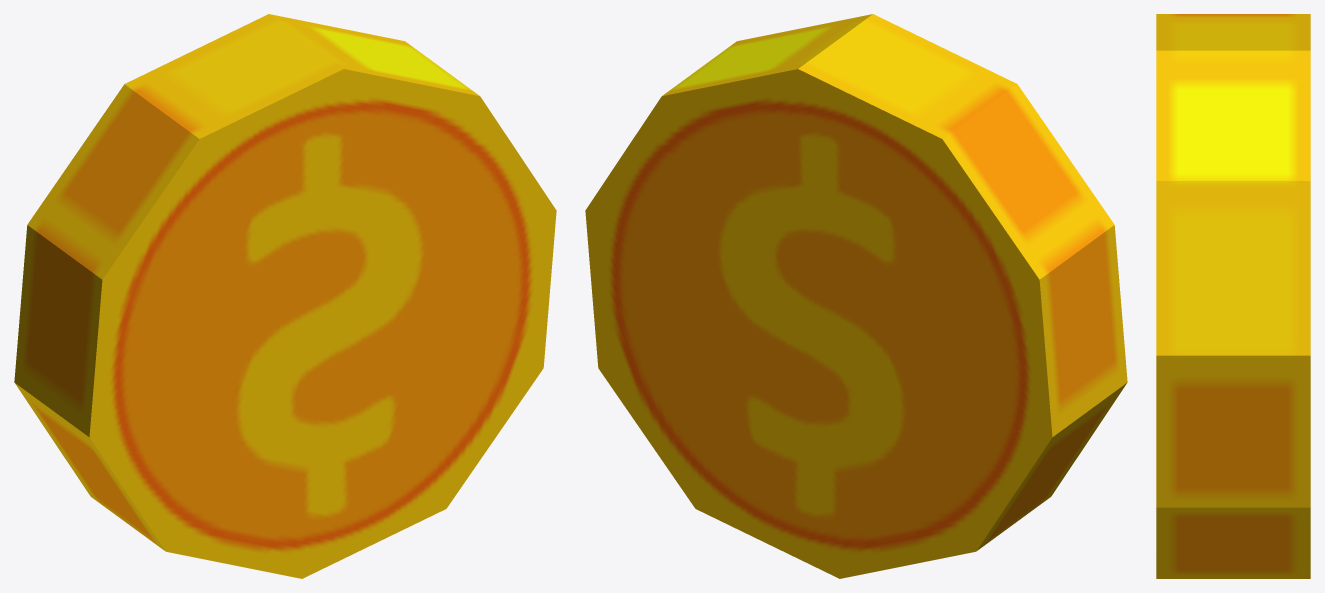
The model's file is Coin.FBX.
The picture shows the model from 3 angles, left to right: view 1: azimuth 30°, elevation 25°; view 2: azimuth 150°, elevation 25°; view 3: azimuth 270°, elevation 25°; orthographic projection. The views are drawn at different scales.
Visible parts, largest first — view 1: Coin; view 2: Coin; view 3: Coin.
Part boxes in pixels (x1,y1,x2,y2): Coin: (14,14,556,578); Coin: (585,14,1127,578); Coin: (1156,14,1310,578).
Size of the model in its own units: 19.99 by 20.44 by 5.57.
1 material, 1 textured.
